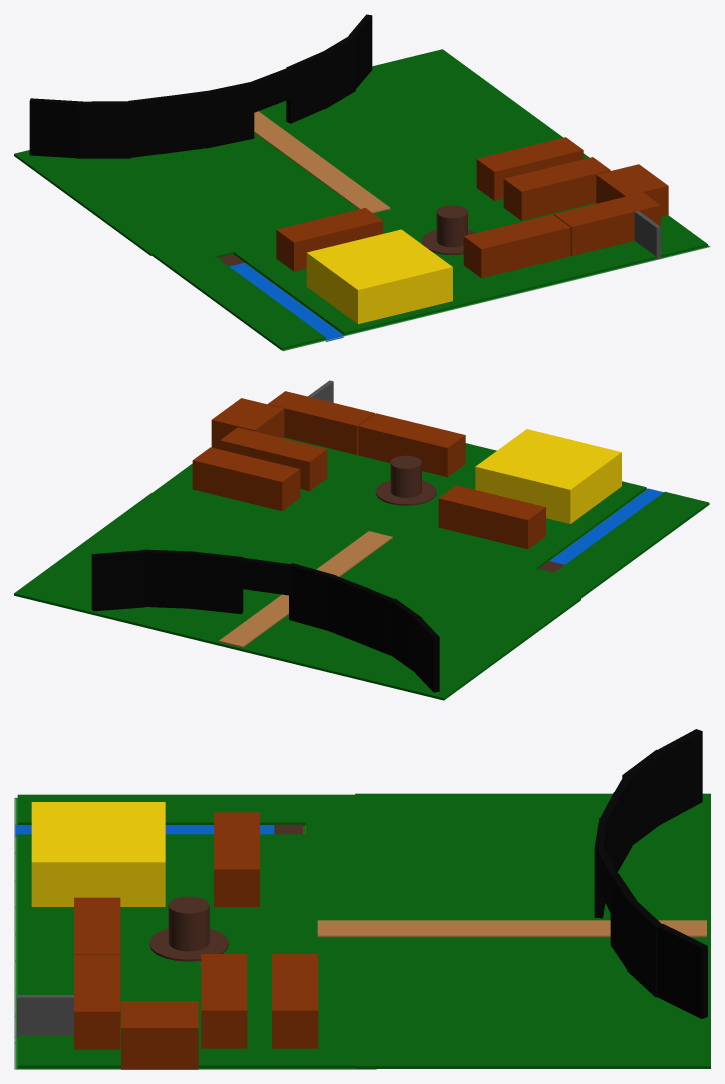
The model's file is town map.fbx.
The picture shows the model from 3 angles, top to bottom: view 1: azimuth 30°, elevation 25°; view 2: azimuth 150°, elevation 25°; view 3: azimuth 270°, elevation 25°; orthographic projection. The views are drawn at different scales.
Parts seen in each view (by area): view 1: Cube__13_, Cube__10_, Cube__9_, Cube, Cube__2_, Cube__4_, Cube__3_, Cube__6_, Cube__5_, Cube__22_, Cube__14_, Cube__19_ (+14 smaller); view 2: Cube__13_, Cube__10_, Cube__9_, Cube, Cube__5_, Cube__6_, Cube__2_, Cube__3_, Cube__15_, Cube__4_, Cube__17_, Cube__14_ (+12 smaller); view 3: Cube__13_, Cube__10_, Cube__9_, Cube, Cube__14_, Cube__7_, Cube__3_, Cube__4_, Cube__5_, Cube__6_, Cube__15_, Cube__23_ (+14 smaller).
Boxes of the visible parts, box(x1,y1,x2,y2) form: Cube__13_: box(14, 49, 562, 255); Cube__10_: box(209, 153, 707, 334); Cube__9_: box(306, 229, 452, 324); Cube: box(145, 241, 325, 350); Cube__2_: box(463, 214, 570, 278); Cube__4_: box(503, 157, 610, 220); Cube__3_: box(554, 192, 660, 255); Cube__6_: box(276, 208, 383, 271); Cube__5_: box(476, 137, 583, 200); Cube__22_: box(77, 101, 130, 158); Cube__14_: box(254, 111, 390, 213); Cube__19_: box(204, 82, 254, 148); Cube__13_: box(14, 493, 580, 700); Cube__10_: box(145, 437, 646, 586); Cube__9_: box(475, 429, 621, 523); Cube: box(528, 491, 709, 602); Cube__5_: box(192, 447, 300, 511); Cube__6_: box(438, 485, 545, 549); Cube__2_: box(358, 413, 465, 477); Cube__3_: box(268, 391, 374, 454); Cube__15_: box(91, 550, 145, 611); Cube__4_: box(220, 427, 327, 491); Cube__17_: box(190, 551, 243, 614); Cube__14_: box(219, 531, 392, 647); Cube__13_: box(355, 793, 710, 1068); Cube__10_: box(17, 834, 373, 1068); Cube__9_: box(31, 802, 165, 906); Cube: box(17, 794, 373, 825); Cube__14_: box(317, 920, 706, 937); Cube__7_: box(121, 1001, 198, 1069); Cube__3_: box(74, 955, 120, 1049); Cube__4_: box(201, 954, 247, 1048); Cube__5_: box(272, 954, 318, 1048); Cube__6_: box(214, 812, 259, 906); Cube__15_: box(657, 924, 707, 1018); Cube__23_: box(655, 729, 702, 824).
Size of the model in its own units: 19422 by 2723 by 20955.
9 materials, 1 textured.
